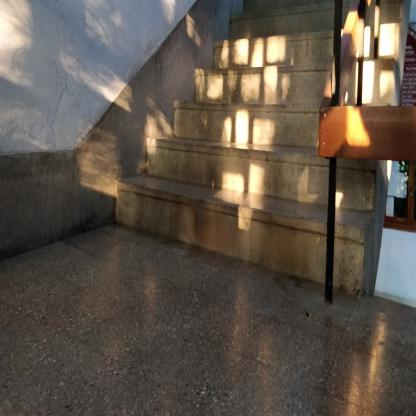stairs: (199, 85, 316, 301)
